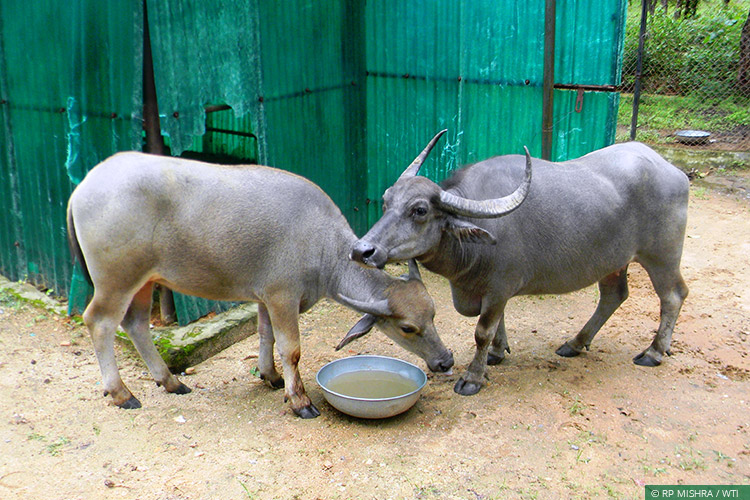buffalo: (73, 140, 464, 431), (343, 125, 694, 370)
